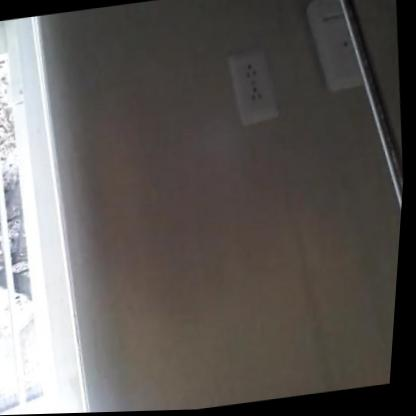OUTLET: (227, 47, 282, 128)
